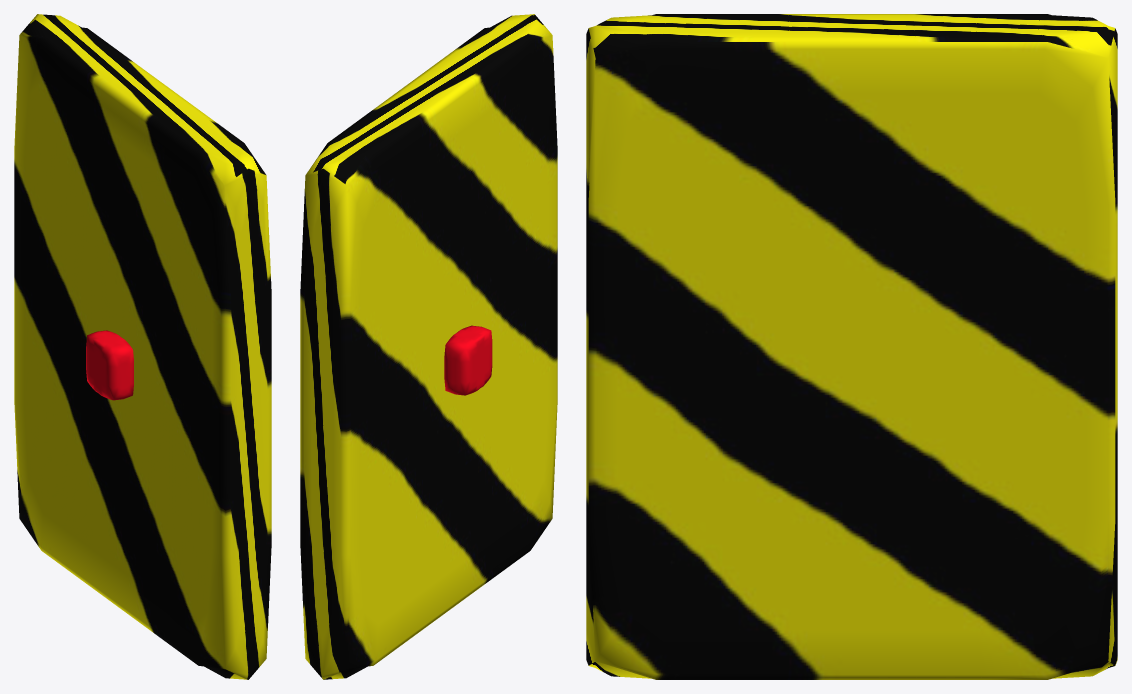
Rendered from Light Switch.FBX.
3 renders of one model, left to right at view 1: azimuth 30°, elevation 25°; view 2: azimuth 150°, elevation 25°; view 3: azimuth 270°, elevation 25°, orthographic. The views are drawn at different scales.
Visible parts, largest first — view 1: Box002; view 2: Box002; view 3: Box002.
Part boxes in pixels (x1,y1,x2,y2): Box002: (14, 14, 271, 679); Box002: (300, 14, 557, 679); Box002: (586, 14, 1117, 679).
Bounding box in the file's own units: 5.85 × 39.37 × 29.53.
